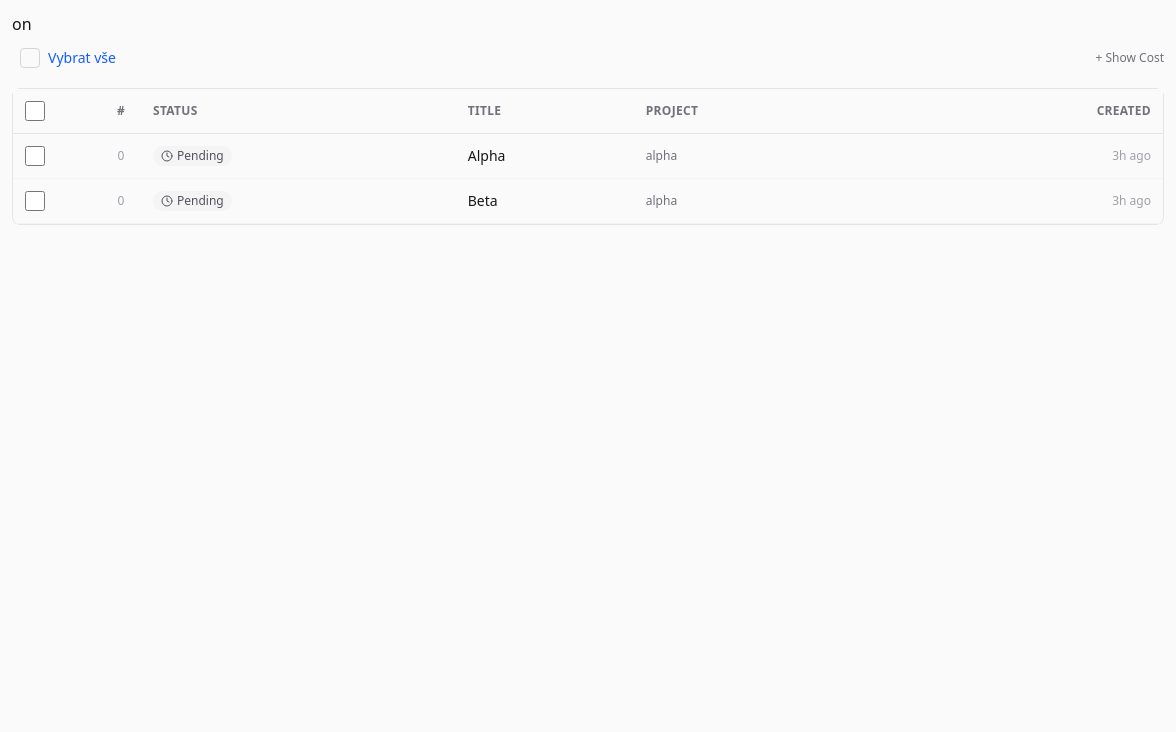
Test case: TaskList selection mode › exits selection mode after a fully successful bulk action
The image size is (1176, 732).
Click the row "0 Pending Alpha alpha 3h ago". click: (588, 156)
box: [13,134,1163,178]
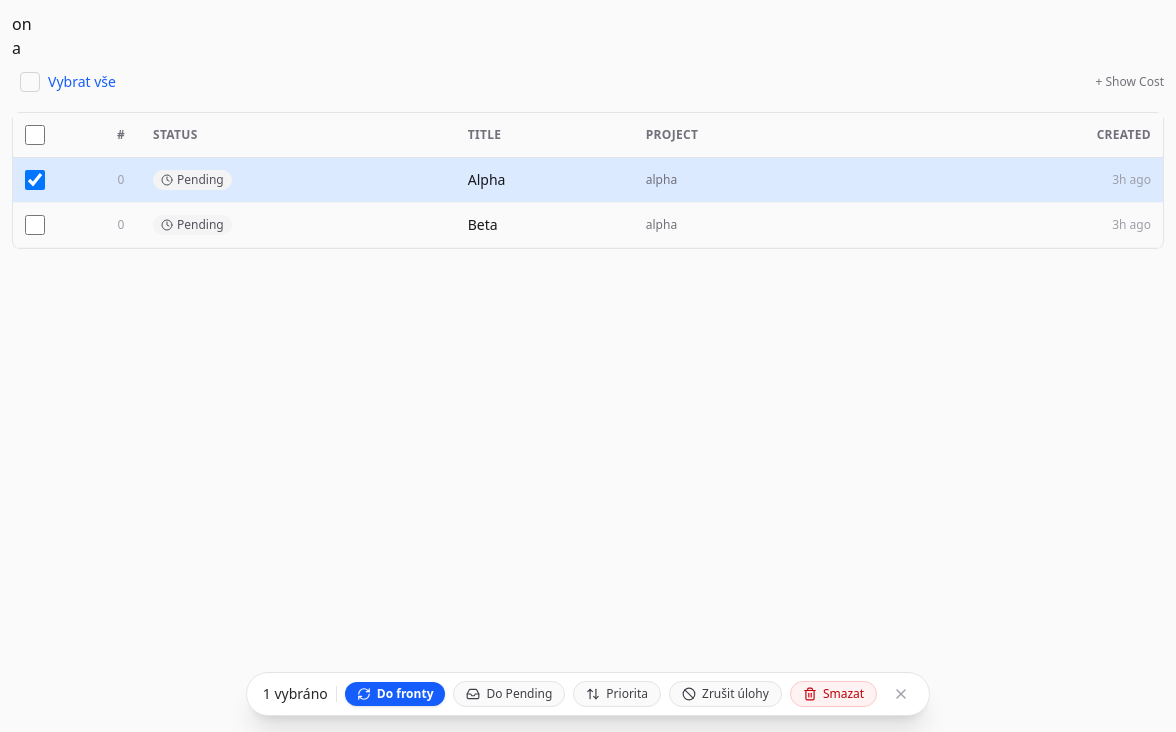
Click the row "0 Pending Beta alpha 3h ago". click: (588, 225)
box: [13,202,1163,248]
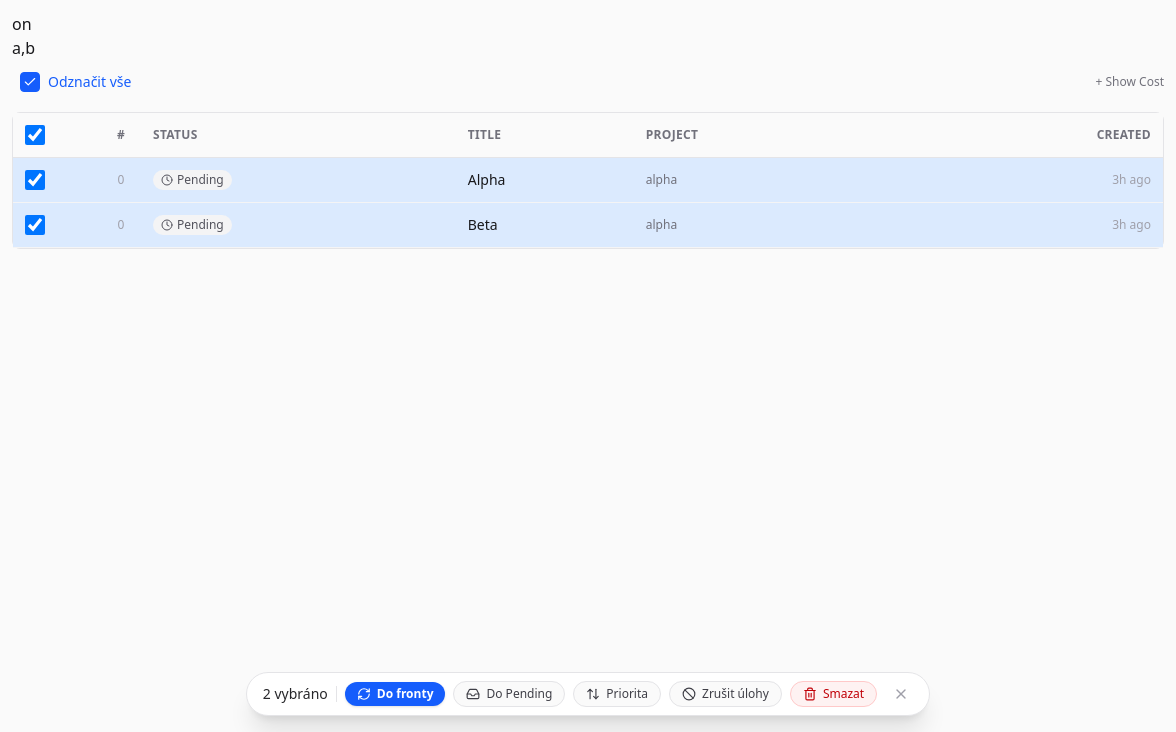
Click the button "Do fronty". click: (395, 694)
box: [345,682,445,706]
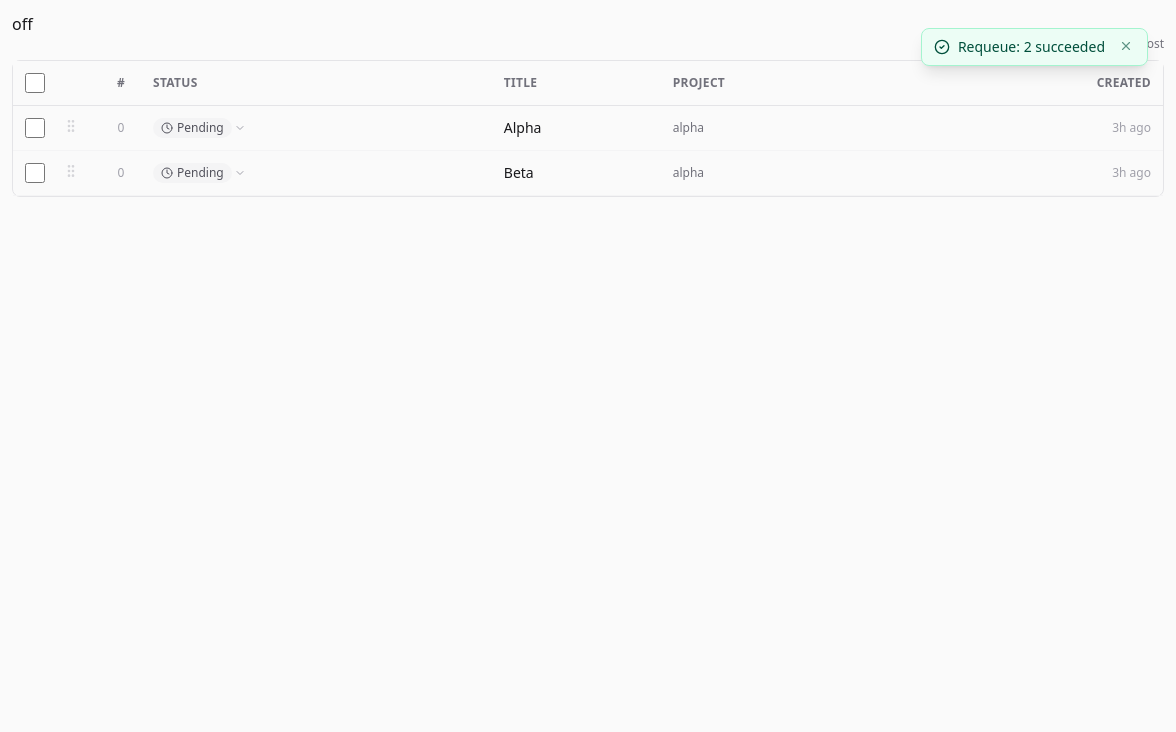
Check: the text with test id "mode" reads "off", box [12,13,33,35]
